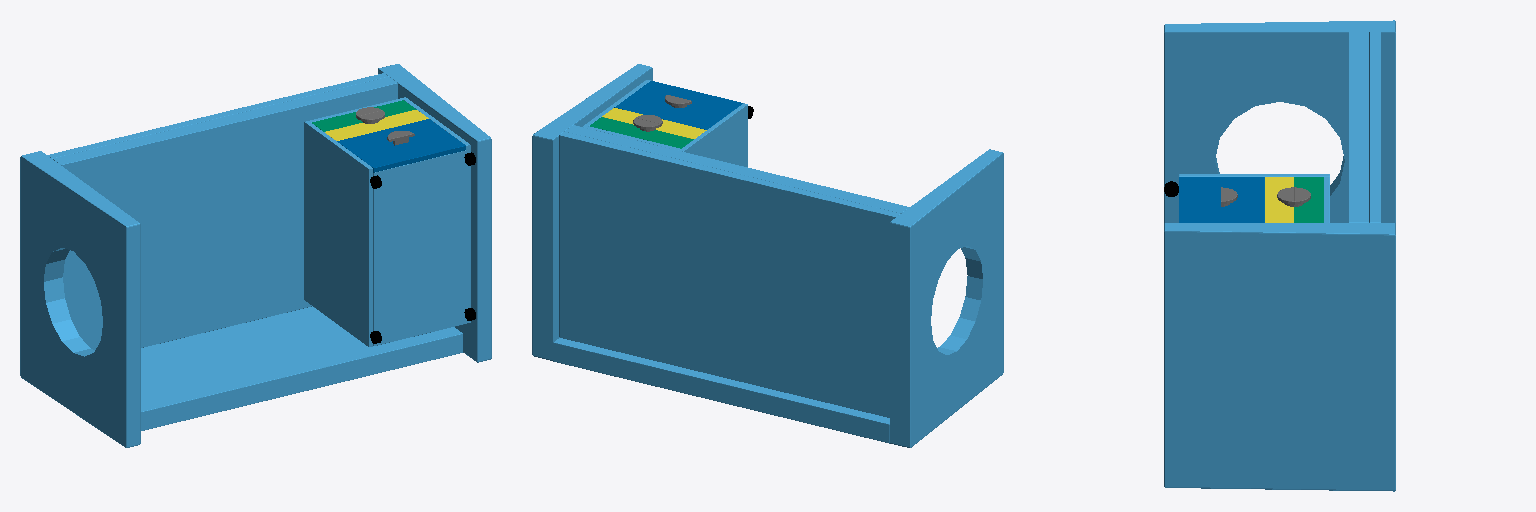
URDF robot description (430):
<robot name="430">


	<link name="0:virtual">
		<visual>
			<origin xyz="0.0 0.0 0.0" rpy="0 0 0"/>
			<geometry>
				<cylinder length="0" radius="0"/>
			</geometry>
		</visual>
	</link>


	<link name="1:static">
		<visual>
			<origin xyz="-0.0 -0.0 -0.0" rpy="0 0 0"/>
			<geometry>
				<mesh filename="../raw_data/430/part_meshes/1.dae" />
			</geometry>
		</visual>
	</link>


	<link name="2:drawer 1">
		<visual>
			<origin xyz="-0.5359509885311127 -0.4940279871225357 -0.06069400906562805" rpy="0 0 0"/>
			<geometry>
				<mesh filename="../raw_data/430/part_meshes/2.dae" />
			</geometry>
		</visual>
	</link>


	<link name="3:drawer 2">
		<visual>
			<origin xyz="-0.5359509885311127 -0.39287999272346497 -0.06069400906562805" rpy="0 0 0"/>
			<geometry>
				<mesh filename="../raw_data/430/part_meshes/3.dae" />
			</geometry>
		</visual>
	</link>


	<link name="4:drawer 3">
		<visual>
			<origin xyz="-0.5359509885311127 -0.19659210555255413 -0.06069400906562805" rpy="0 0 0"/>
			<geometry>
				<mesh filename="../raw_data/430/part_meshes/4.dae" />
			</geometry>
		</visual>
	</link>


	<joint name="0:virtual::1:static" type="fixed">
		<parent link="0:virtual"/>
		<child link="1:static"/>
		<origin xyz="0.0 0.0 0.0" rpy="0 0 0"/>
	</joint>


	<joint name="0:virtual::2:drawer 1_translation" type="prismatic">
		<parent link="0:virtual"/>
		<child link="2:drawer 1"/>
		<origin xyz="0.5359509885311127 0.4940279871225357 0.06069400906562805" rpy="0 0 0"/>
		<limit lower="-6.4000248909e-05" upper="0.611935999751091" effort="10" velocity="3"/>
		<axis xyz="0.0 0.0 1.0"/>
	</joint>


	<joint name="0:virtual::3:drawer 2_translation" type="prismatic">
		<parent link="0:virtual"/>
		<child link="3:drawer 2"/>
		<origin xyz="0.5359509885311127 0.39287999272346497 0.06069400906562805" rpy="0 0 0"/>
		<limit lower="-6.4000248909e-05" upper="0.611935999751091" effort="10" velocity="3"/>
		<axis xyz="0.0 0.0 1.0"/>
	</joint>


	<joint name="0:virtual::4:drawer 3_translation" type="prismatic">
		<parent link="0:virtual"/>
		<child link="4:drawer 3"/>
		<origin xyz="0.5359509885311127 0.19659210555255413 0.06069400906562805" rpy="0 0 0"/>
		<limit lower="-6.4000248909e-05" upper="0.611935999751091" effort="10" velocity="3"/>
		<axis xyz="0.0 0.0 1.0"/>
	</joint>


</robot>

--- What the picture shows (computed from the rendered views, not written in the file) ---
Views: 3 orthographic renders of the robot side by side, from view 1: azimuth 30°, elevation 25°; view 2: azimuth 150°, elevation 25°; view 3: azimuth 270°, elevation 25°.
Model 430 with 5 links and 4 joints (3 prismatic, 1 fixed), rooted at 0:virtual, posed all joints at 0.
Visible links, largest first — view 1: 1:static, 4:drawer 3, 3:drawer 2, 2:drawer 1; view 2: 1:static, 4:drawer 3, 3:drawer 2, 2:drawer 1; view 3: 1:static, 4:drawer 3, 3:drawer 2, 2:drawer 1.
Boxes of the visible links, box(x1,y1,x2,y2) form: 1:static: box(20, 64, 491, 447); 4:drawer 3: box(337, 119, 465, 172); 3:drawer 2: box(325, 107, 428, 140); 2:drawer 1: box(312, 100, 416, 131); 1:static: box(532, 64, 1003, 447); 4:drawer 3: box(614, 81, 742, 129); 3:drawer 2: box(602, 108, 706, 138); 2:drawer 1: box(590, 117, 693, 148); 1:static: box(1164, 20, 1395, 491); 4:drawer 3: box(1179, 177, 1264, 222); 3:drawer 2: box(1265, 177, 1310, 222); 2:drawer 1: box(1294, 177, 1323, 222).
Size in the robot's own frame: 1.73 by 0.79 by 0.97 metres.
4 mesh visuals loaded from 4 distinct referenced files (4 Collada DAE).